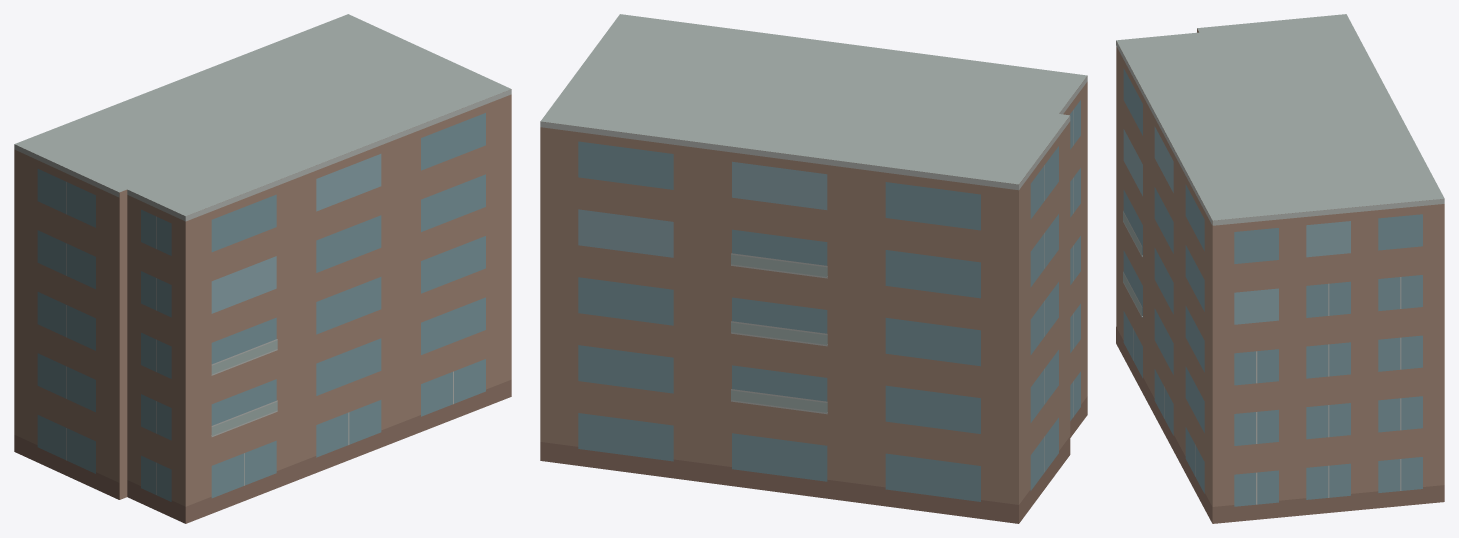
The model's file is survey-upis-32812548.glb.
3 views of the same model, side by side, from view 1: azimuth 30°, elevation 25°; view 2: azimuth 150°, elevation 25°; view 3: azimuth 270°, elevation 25° (orthographic). The views are drawn at different scales.
Visible parts, largest first — view 1: survey-upis-32812548.tmp; view 2: survey-upis-32812548.tmp; view 3: survey-upis-32812548.tmp.
Boxes of the visible parts, box(x1,y1,x2,y2) form: survey-upis-32812548.tmp: box(14, 14, 511, 523); survey-upis-32812548.tmp: box(540, 14, 1087, 523); survey-upis-32812548.tmp: box(1116, 14, 1444, 523).
Bounding box in the file's own units: 20.9 × 14.3 × 14.05.
